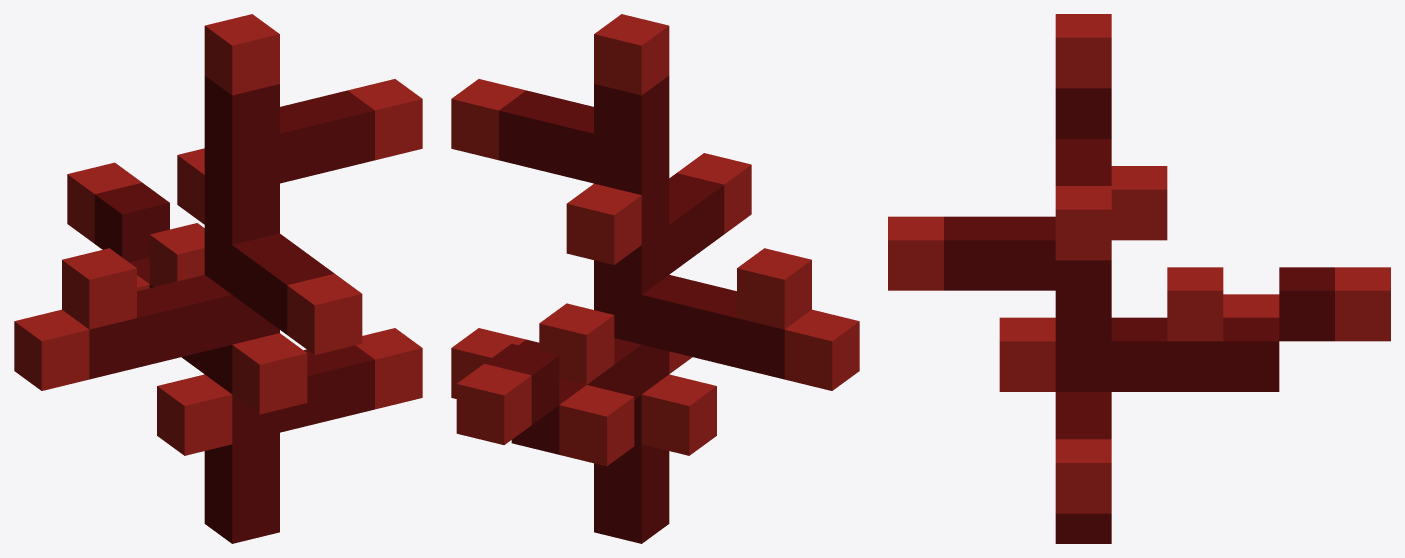
File: Medieval Assets-311-Resource - Herb - Bloodvine.obj
3 renders of one model, left to right at view 1: azimuth 30°, elevation 25°; view 2: azimuth 150°, elevation 25°; view 3: azimuth 270°, elevation 25°, orthographic.
Visible parts, largest first — view 1: Resource - Herb - Bloodvine; view 2: Resource - Herb - Bloodvine; view 3: Resource - Herb - Bloodvine.
Boxes of the visible parts, x1,y1,x2,y2 form: Resource - Herb - Bloodvine: [14, 14, 422, 543]; Resource - Herb - Bloodvine: [451, 14, 859, 543]; Resource - Herb - Bloodvine: [888, 14, 1390, 543].
Bounding box in the file's own units: 0.8 × 1 × 0.9.
Materials: 1 (1 with a texture image).
